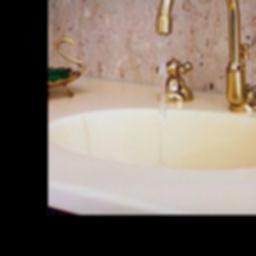Lavamanos: (50, 0, 256, 212)
